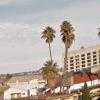Palm tree: (36, 11, 89, 85)
